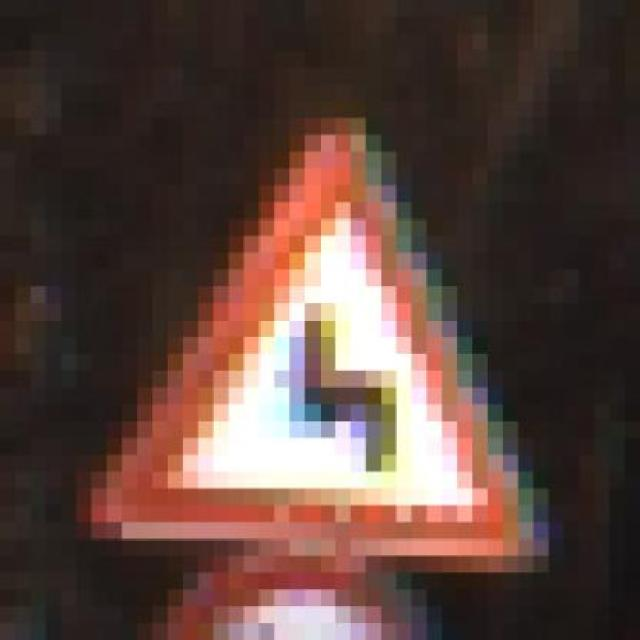Left Zig Zag Traffic: (76, 101, 564, 590)
